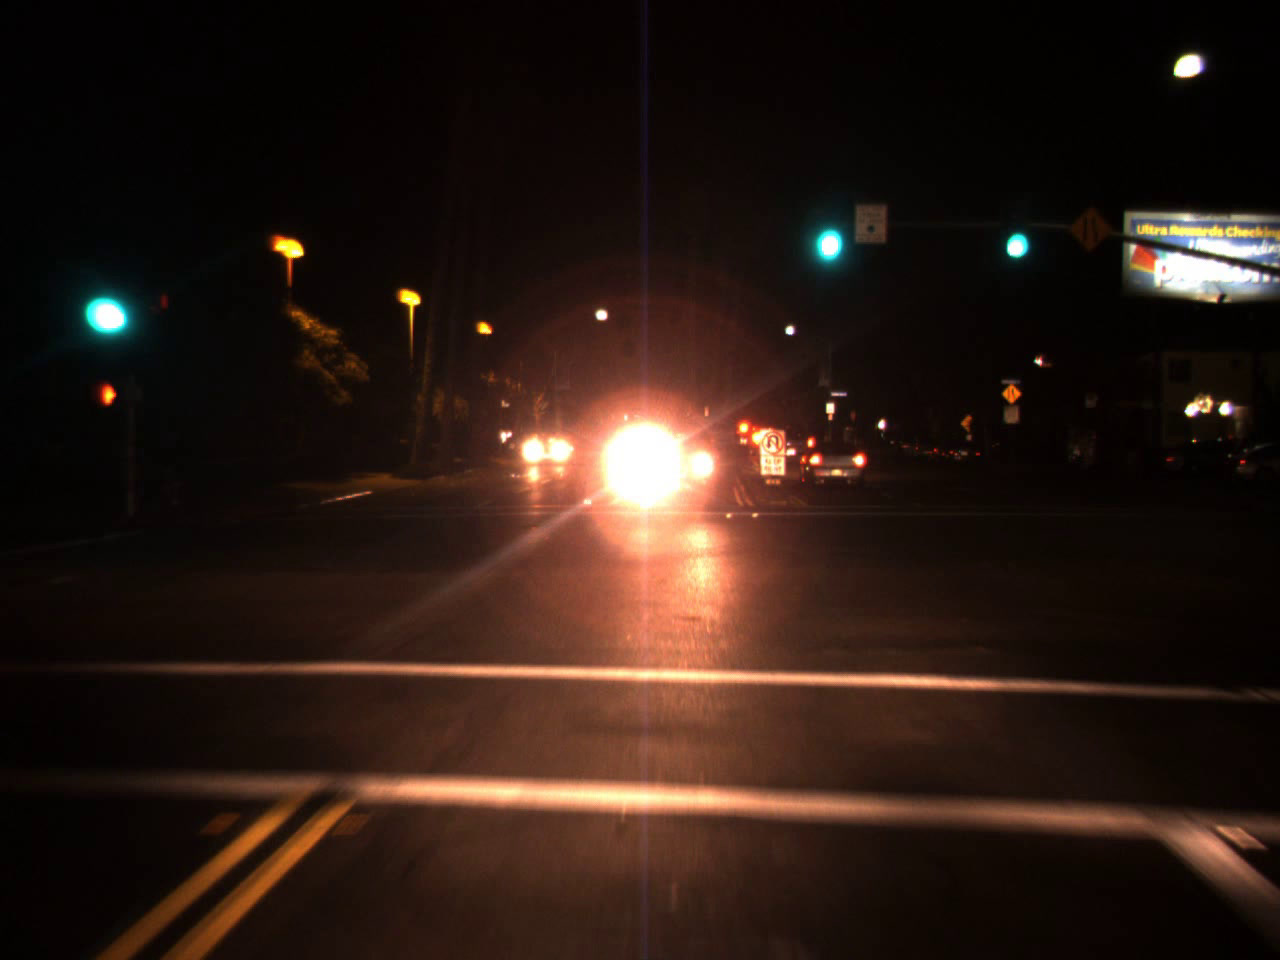go: (81, 262, 131, 343), (804, 187, 849, 274), (997, 202, 1033, 265)
